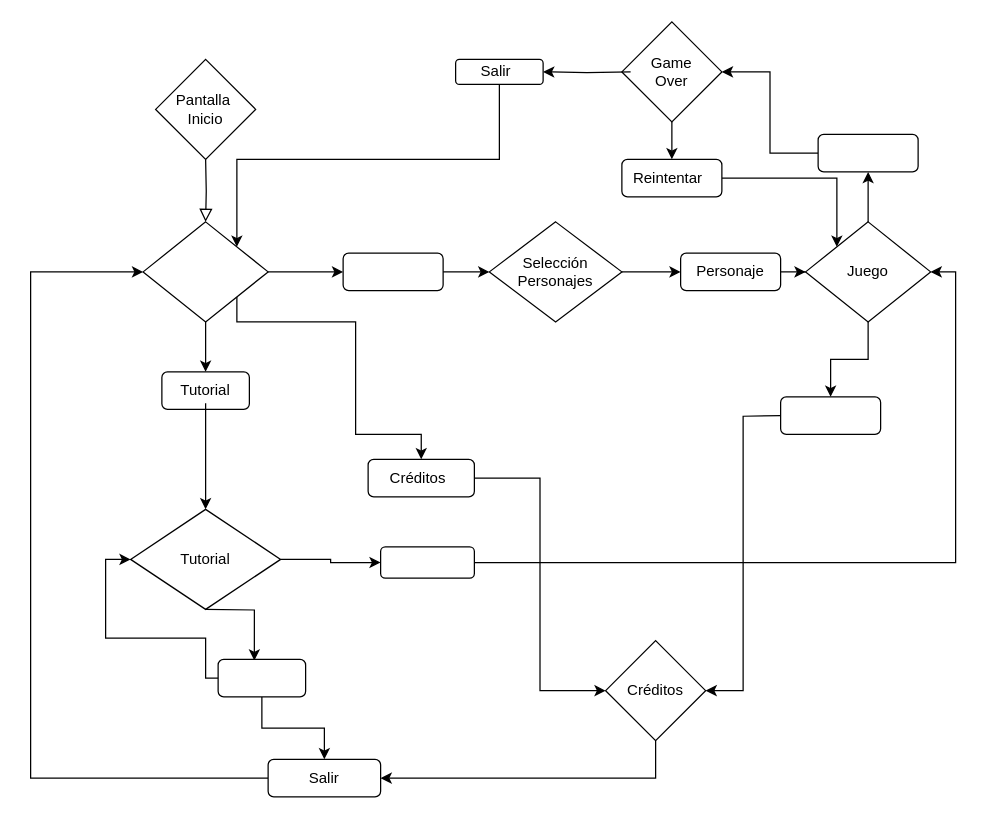
This 988x819 diagram has some shape labels left out. Each missing label, with the centre of its shape:
"Completado" belongs at point 426,562.
"Fallo" belongs at point 261,677.
"Jugar" belongs at point 392,271.
"Menú Principal" belongs at point 205,271.
"Muerte" belongs at point 867,152.
"Victoria" belongs at point 830,415.
